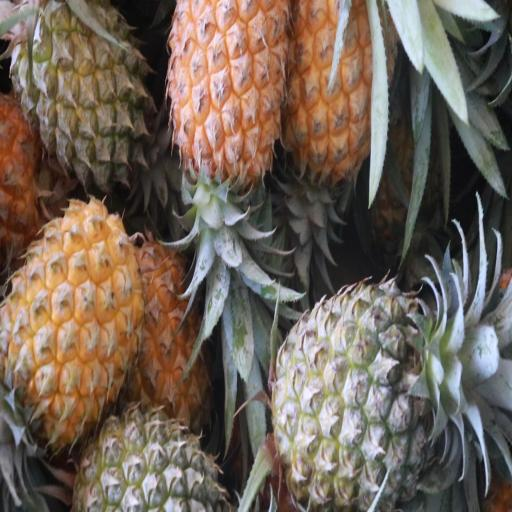------------------------------: (16, 0, 150, 189)
Pineapple - v8 v1: (4, 200, 143, 445), (168, 0, 286, 183), (286, 0, 393, 182), (132, 247, 220, 430)
